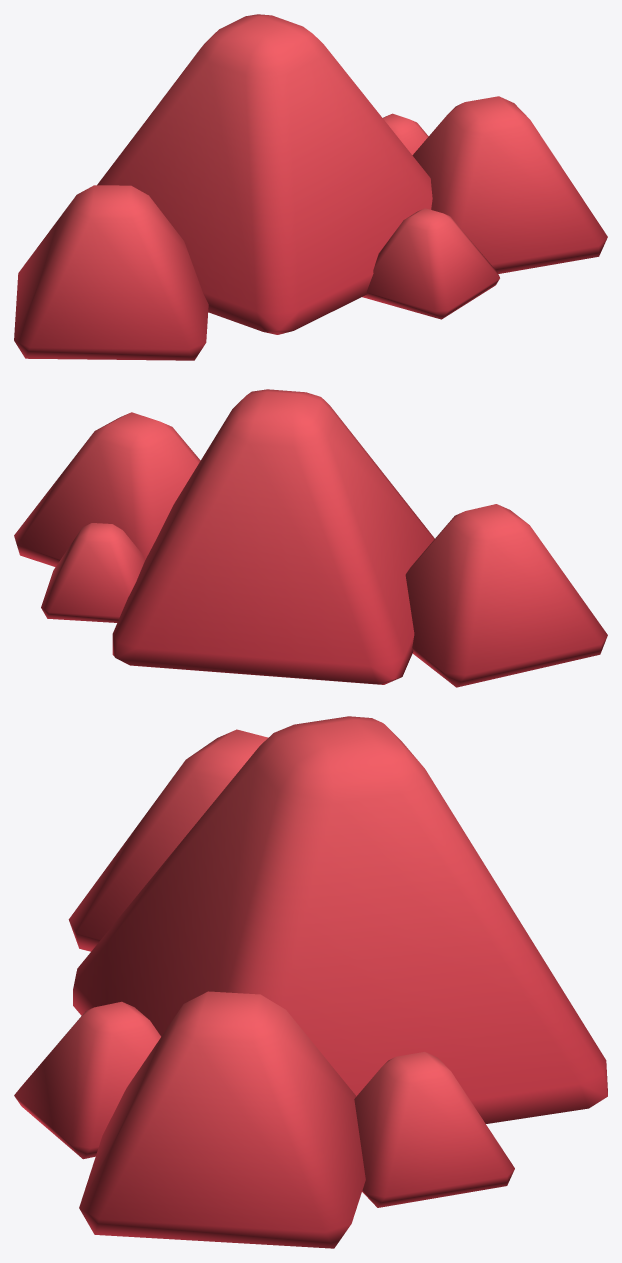
Rendered from Bush_4_F_Color7.fbx.
3 renders of one model, top to bottom at view 1: azimuth 30°, elevation 25°; view 2: azimuth 150°, elevation 25°; view 3: azimuth 270°, elevation 25°, orthographic. The views are drawn at different scales.
Visible parts, largest first — view 1: Bush_4_F_Color7; view 2: Bush_4_F_Color7; view 3: Bush_4_F_Color7.
Part boxes in pixels (x1,y1,x2,y2): Bush_4_F_Color7: [14, 14, 607, 360]; Bush_4_F_Color7: [14, 389, 607, 687]; Bush_4_F_Color7: [14, 716, 607, 1248].
Size of the model in its own units: 3.39 by 1.3 by 2.14.
